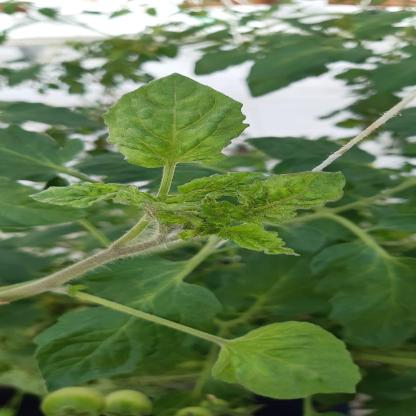T_L_H: (214, 322, 362, 400)
T_L_R: (105, 75, 249, 168), (232, 172, 346, 225), (165, 172, 269, 205), (31, 184, 156, 209), (219, 225, 299, 256), (156, 203, 203, 229), (202, 198, 235, 226)
T_S_H: (66, 287, 231, 347)
T_S_R: (117, 218, 151, 246), (158, 165, 177, 201)
